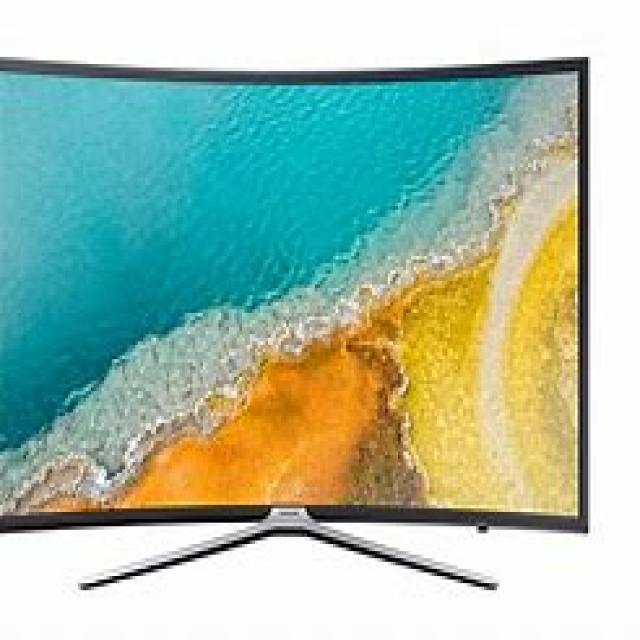tv: (0, 50, 591, 590)
